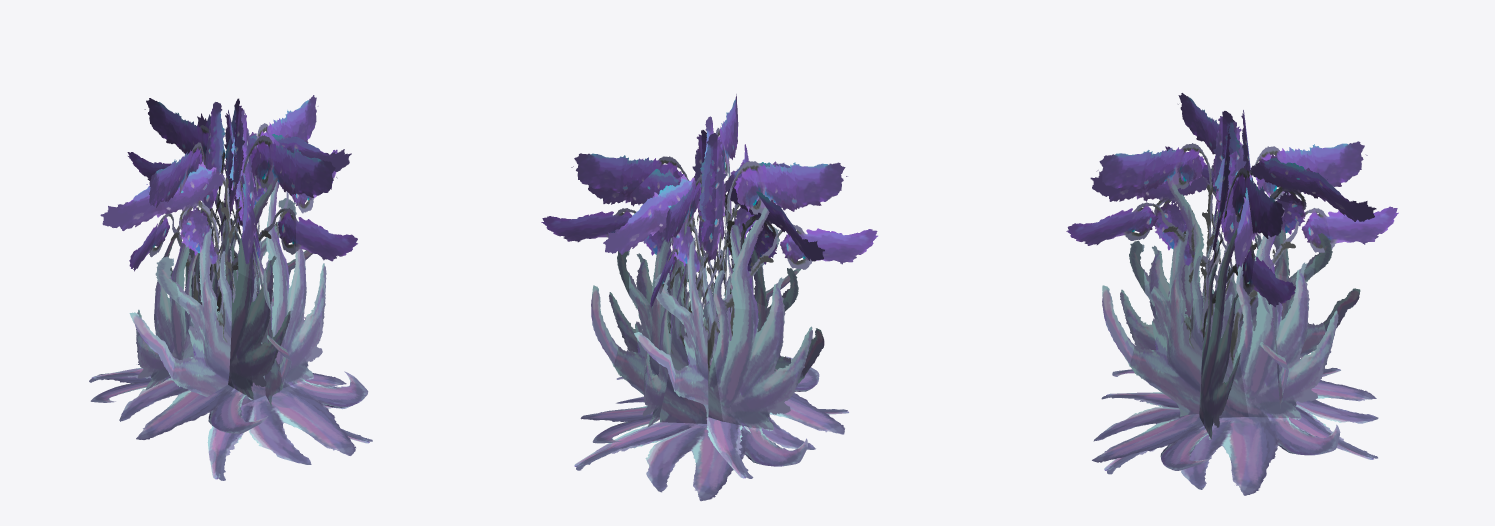
File: grass1.fbx
3 views of the same model, side by side, from view 1: azimuth 30°, elevation 25°; view 2: azimuth 150°, elevation 25°; view 3: azimuth 270°, elevation 25° (orthographic).
Parts seen in each view (by area): view 1: Plane.005; view 2: Plane.005; view 3: Plane.005.
Part boxes in pixels (bbox=[...]): Plane.005: bbox=[89, 95, 372, 480]; Plane.005: bbox=[541, 94, 877, 501]; Plane.005: bbox=[1066, 93, 1398, 495].
Size of the model in its own units: 651 by 549 by 660.
